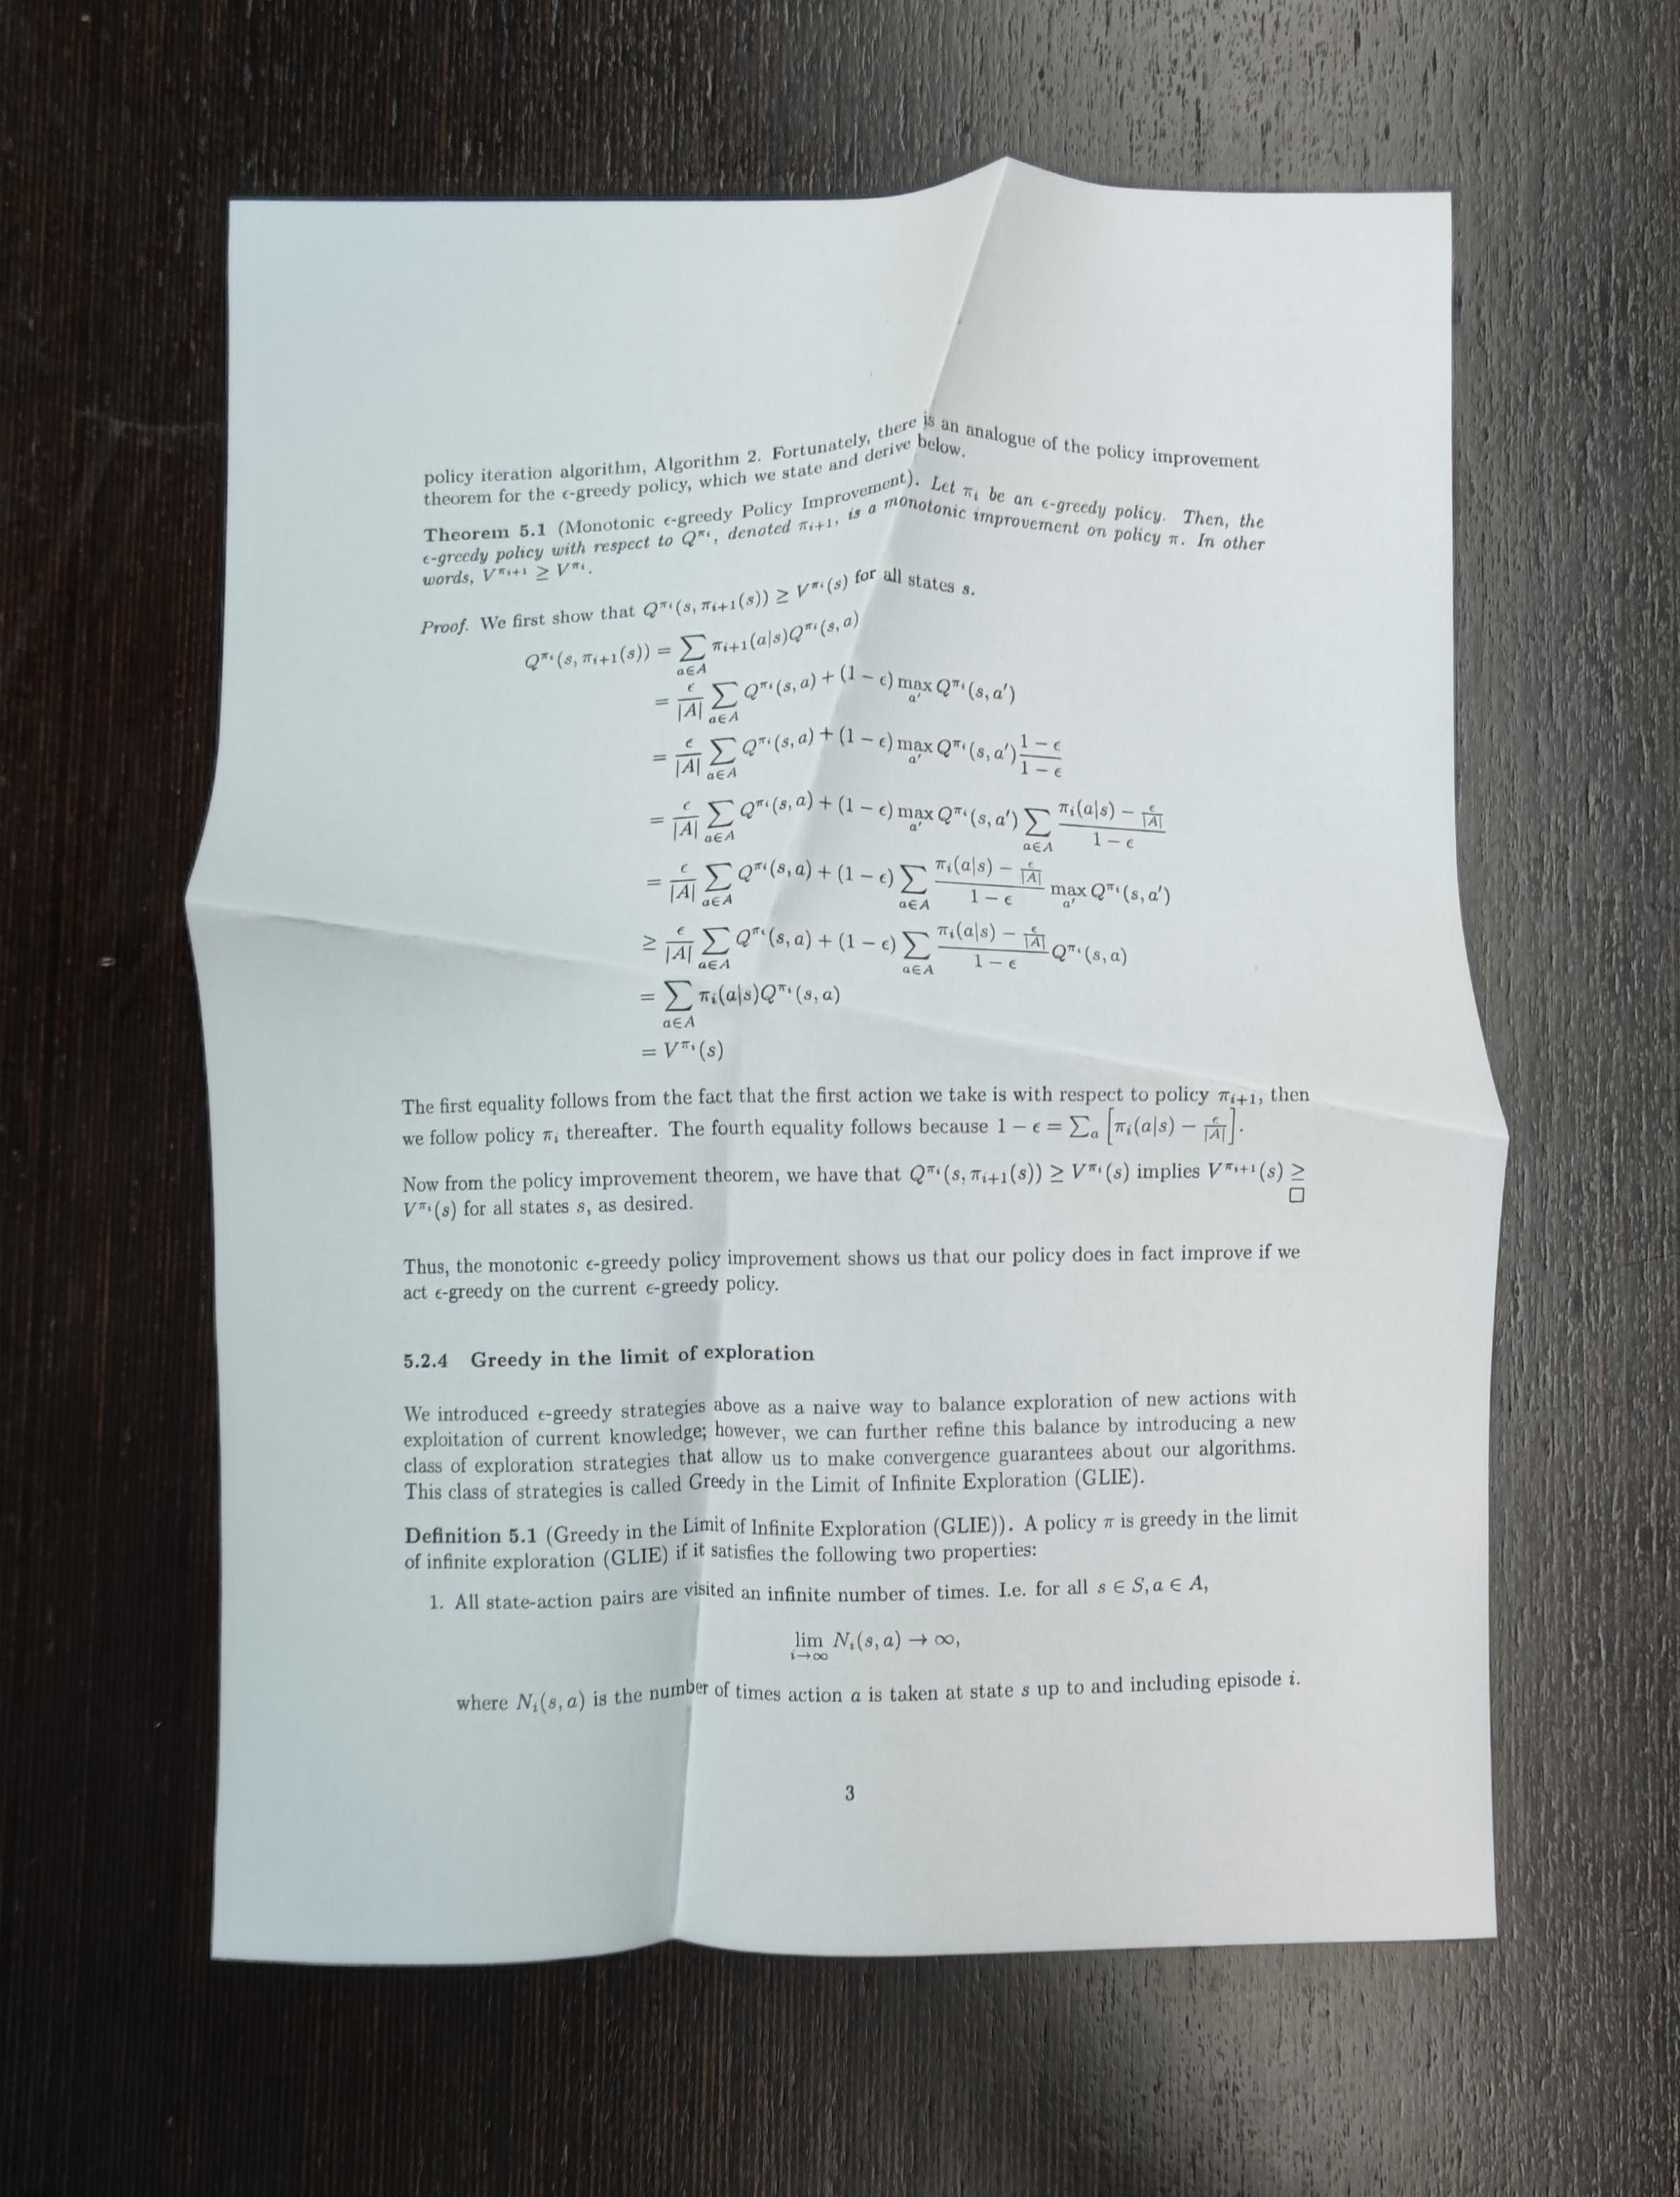paper: (92, 101, 1680, 2091)
